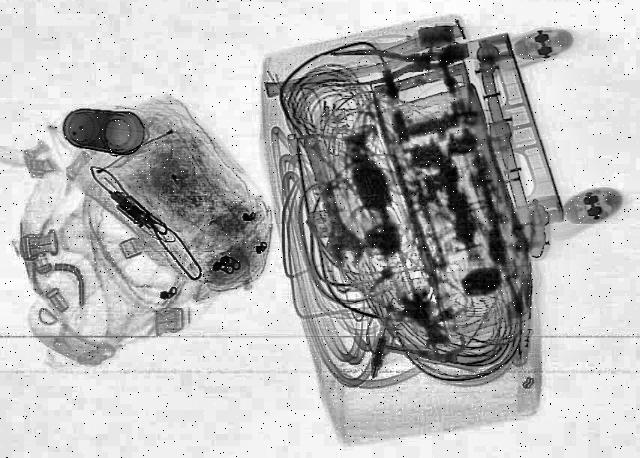Pliers: (324, 42, 448, 90)
Wrench: (292, 136, 368, 268)
